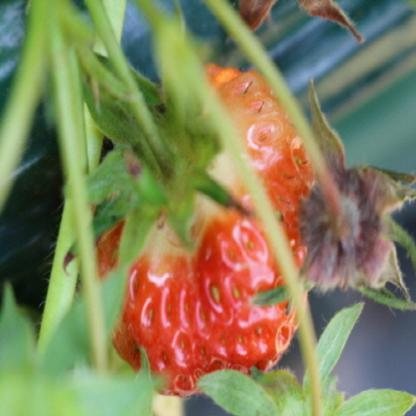Strawberry_Gray_Mold: (297, 79, 415, 301)
